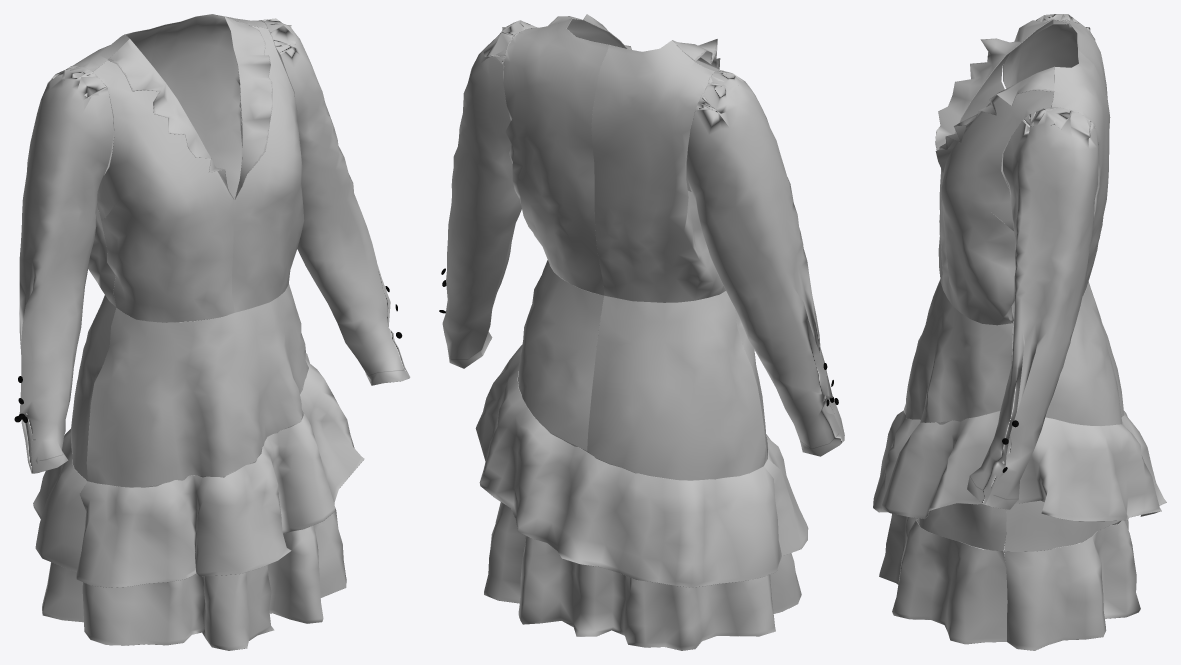
File: rosesshortdresslowpoly.fbx
3 views of the same model, side by side, from view 1: azimuth 30°, elevation 25°; view 2: azimuth 150°, elevation 25°; view 3: azimuth 270°, elevation 25° (orthographic). The views are drawn at different scales.
Visible parts, largest first — view 1: ROSES -SHORT-DRESS修改样 - 副本_袖子_2; view 2: ROSES -SHORT-DRESS修改样 - 副本_袖子_2; view 3: ROSES -SHORT-DRESS修改样 - 副本_袖子_2.
Boxes of the visible parts, <box> form: ROSES -SHORT-DRESS修改样 - 副本_袖子_2: <box>14,14,410,650</box>; ROSES -SHORT-DRESS修改样 - 副本_袖子_2: <box>439,14,844,650</box>; ROSES -SHORT-DRESS修改样 - 副本_袖子_2: <box>873,14,1166,650</box>.
Bounding box in the file's own units: 63.74 × 87.86 × 42.76.
Materials: 55 (55 with a texture image).
